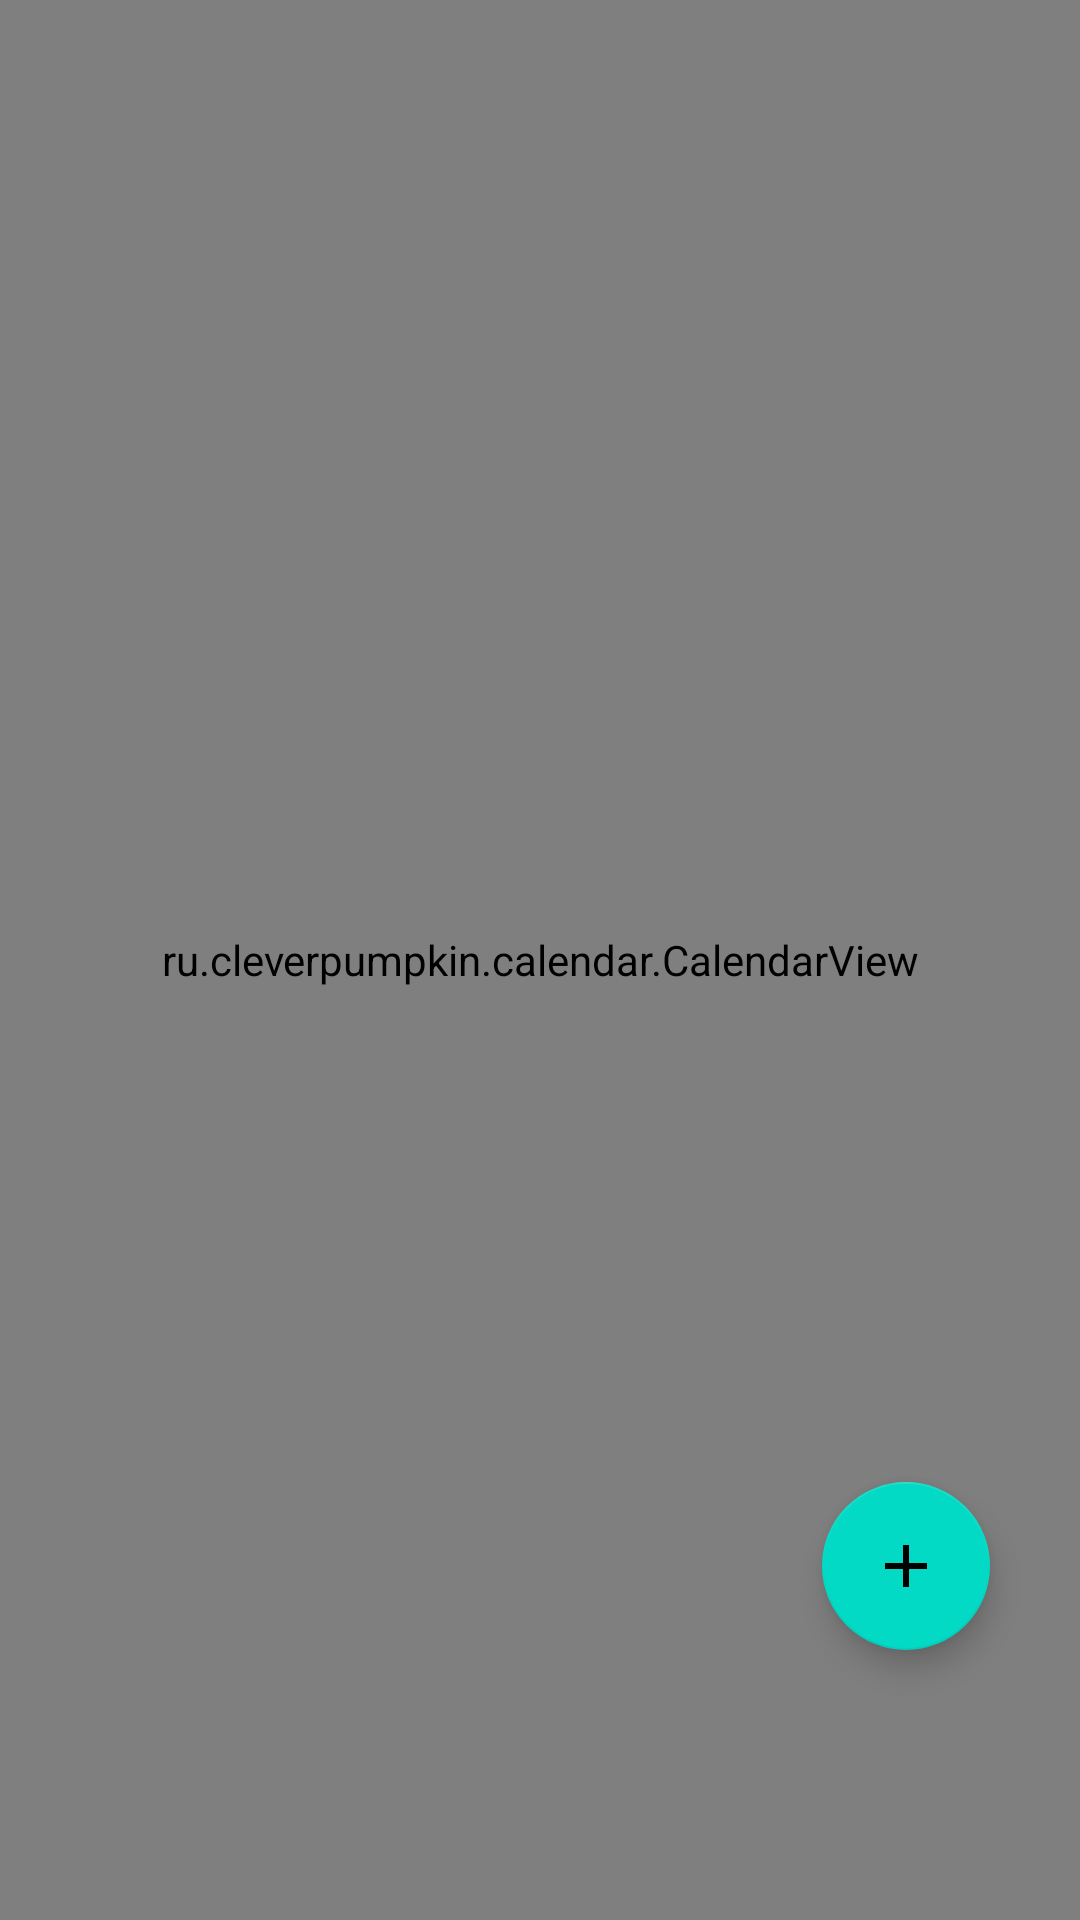

Where to tap for icons on this 1080×1920 app screen, as (x=x, y=y):
add: (x=906, y=1566)
